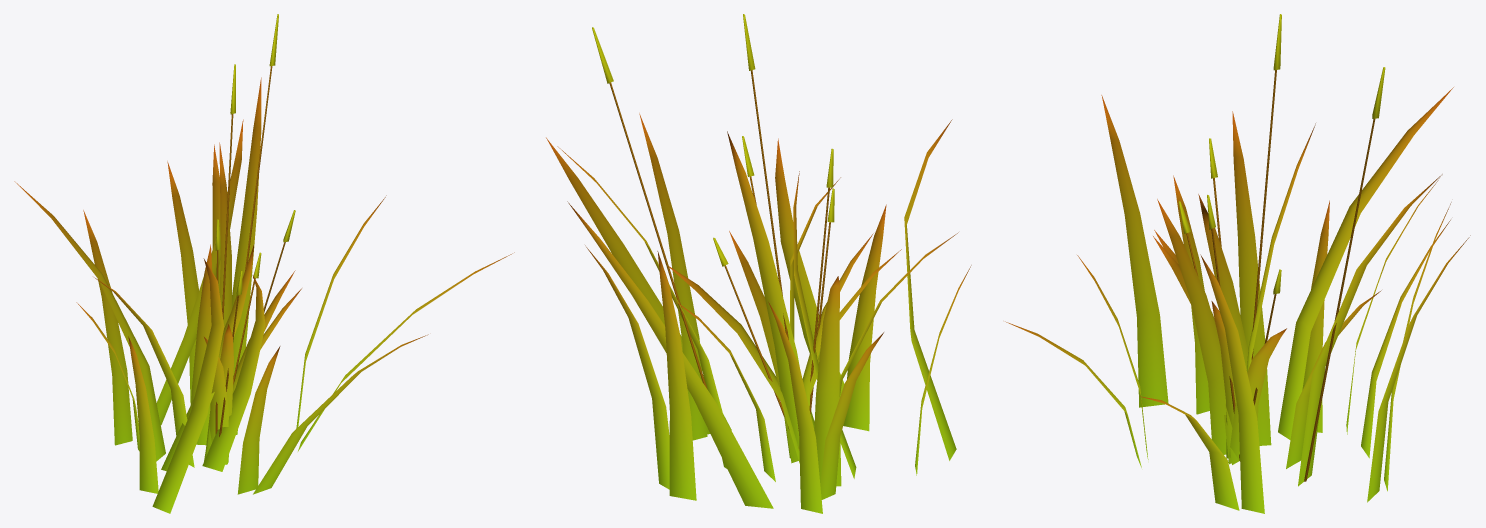
File: poppy.glb
3 views of the same model, side by side, from view 1: azimuth 30°, elevation 25°; view 2: azimuth 150°, elevation 25°; view 3: azimuth 270°, elevation 25° (orthographic). The views are drawn at different scales.
Visible parts, largest first — view 1: v1, v0, v3, v2; view 2: v0, v3, v1, v2; view 3: v1, v0, v3, v2.
Boxes of the visible parts, x1,y1,x2,y2 form: v1: (152,119,514,513); v0: (14,144,280,494); v3: (204,14,301,464); v2: (76,195,386,493); v0: (585,204,958,500); v3: (557,14,901,468); v1: (546,119,956,508); v2: (639,113,971,513); v1: (1005,95,1450,510); v0: (1077,87,1470,502); v3: (1153,14,1442,486); v2: (1173,175,1439,513).
Size of the model in its own units: 12.53 by 11.7 by 10.66.
